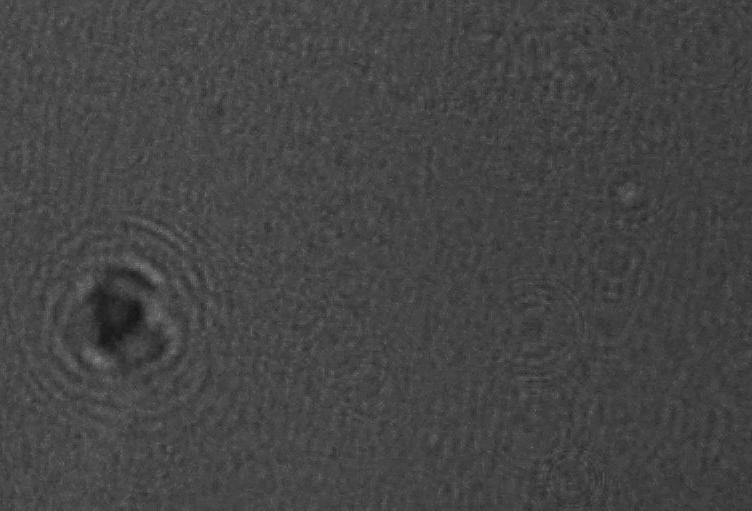bead: (474, 274, 596, 383)
